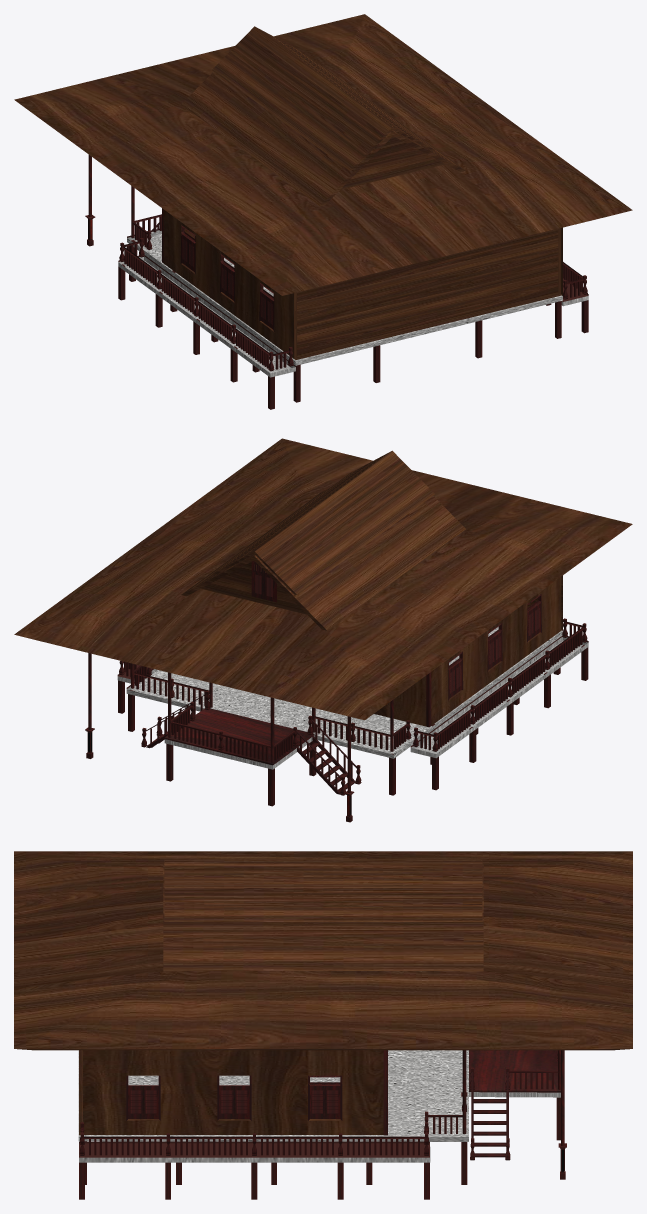
The model's file is BantayoPoboide.glb.
3 views of the same model, one above another, from view 1: azimuth 30°, elevation 25°; view 2: azimuth 150°, elevation 25°; view 3: azimuth 270°, elevation 25° (orthographic). The views are drawn at different scales.
Visible parts, largest first — view 1: Atap, Tembok.005, Cube.009, Cube.010, Tembok.001, Pagar.212, Lantai.001, Penopang.002, Lantai, Cube.007, Jendela.002, Tangga.001; view 2: Atap, Cube.009, Cube.010, Lantai.001, Pagar.212, Tembok.001, Lantai.003, Penopang.002, Lantai, Tangga.001, Cube.014, Jendela.002 (+2 smaller); view 3: Atap, Tembok.004, Cube.009, Cube.010, Lantai.001, Lantai.007, Jendela.005, Lantai.003, Pagar.212, Penopang.002, Lantai.006, Tangga.001 (+1 smaller).
Boxes of the visible parts, x1,y1,x2,y2 form: Atap: (14, 14, 632, 295); Tembok.005: (294, 227, 562, 359); Cube.009: (212, 26, 434, 170); Cube.010: (181, 64, 465, 206); Tembok.001: (163, 209, 296, 358); Pagar.212: (124, 216, 582, 369); Lantai.001: (127, 230, 562, 365); Penopang.002: (118, 240, 588, 409); Lantai: (118, 256, 295, 377); Cube.007: (340, 136, 445, 189); Jendela.002: (180, 226, 274, 331); Tangga.001: (119, 230, 587, 371); Atap: (14, 438, 632, 720); Cube.009: (212, 450, 434, 594); Cube.010: (181, 488, 465, 630); Lantai.001: (126, 626, 562, 758); Pagar.212: (124, 623, 582, 789); Tembok.001: (431, 577, 561, 725); Lantai.003: (164, 708, 314, 765); Penopang.002: (118, 645, 588, 806); Lantai: (410, 637, 588, 758); Tangga.001: (119, 618, 587, 795); Cube.014: (201, 560, 306, 614); Jendela.002: (448, 594, 541, 700); Atap: (14, 851, 632, 1050); Tembok.004: (83, 1050, 383, 1134); Cube.009: (164, 859, 482, 921); Cube.010: (163, 864, 483, 971); Lantai.001: (78, 1050, 468, 1141); Lantai.007: (79, 1141, 429, 1157); Jendela.005: (126, 1075, 342, 1120); Lantai.003: (469, 1050, 560, 1092); Pagar.212: (81, 1073, 553, 1155); Penopang.002: (79, 1092, 560, 1199); Lantai.006: (79, 1147, 430, 1162); Tangga.001: (79, 1054, 557, 1160).
Bounding box in the file's own units: 30.84 × 18.21 × 40.81.
5 materials, 4 textured.
